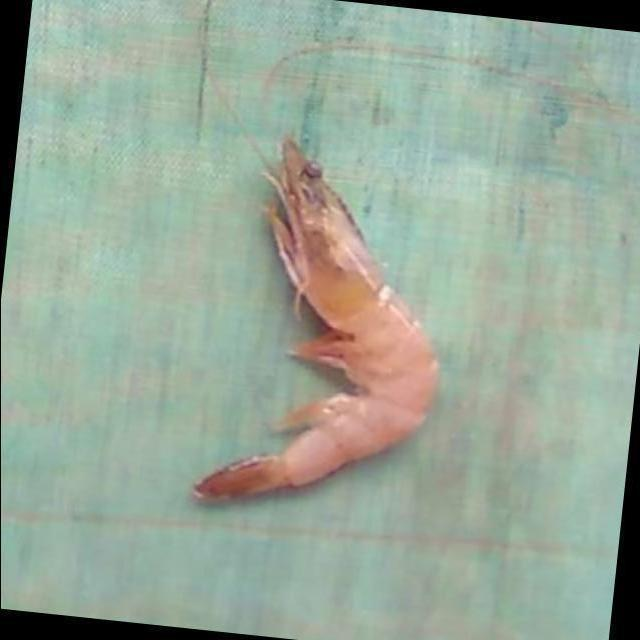shrimp: (192, 138, 438, 502)
